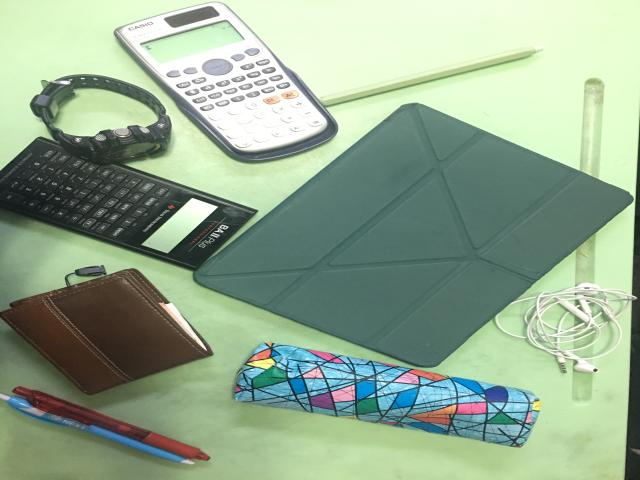Pen: (0, 387, 210, 464)
Wallet: (0, 268, 212, 395)
Watch: (30, 75, 172, 163)
wire: (495, 283, 637, 373)
